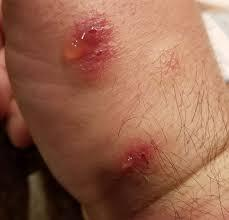Spider: (90, 137, 166, 196), (64, 17, 118, 87)
